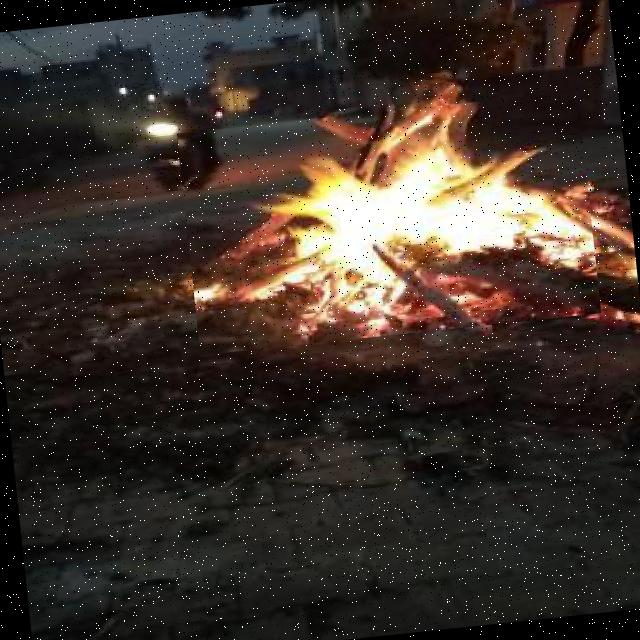fire: (177, 91, 600, 355)
